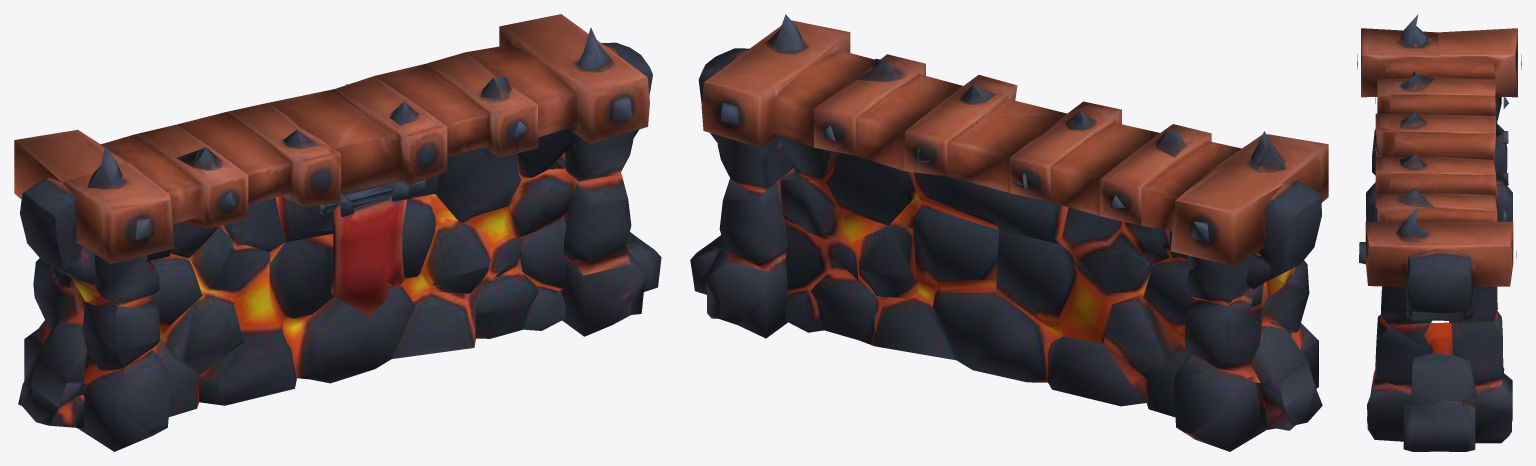
The model's file is volcan_muro.glb.
The picture shows the model from 3 angles, left to right: view 1: azimuth 30°, elevation 25°; view 2: azimuth 150°, elevation 25°; view 3: azimuth 270°, elevation 25°; orthographic projection. The views are drawn at different scales.
Visible parts, largest first — view 1: tripo_node_67f27429-d042-4138-a7f0-ddbce65d6c00; view 2: tripo_node_67f27429-d042-4138-a7f0-ddbce65d6c00; view 3: tripo_node_67f27429-d042-4138-a7f0-ddbce65d6c00.
Boxes of the visible parts, x1,y1,x2,y2 form: tripo_node_67f27429-d042-4138-a7f0-ddbce65d6c00: (14, 14, 661, 451); tripo_node_67f27429-d042-4138-a7f0-ddbce65d6c00: (690, 14, 1328, 451); tripo_node_67f27429-d042-4138-a7f0-ddbce65d6c00: (1357, 14, 1521, 451).
Size of the model in its own units: 0.9995 by 0.4409 by 0.2864.
1 material, 1 textured.
